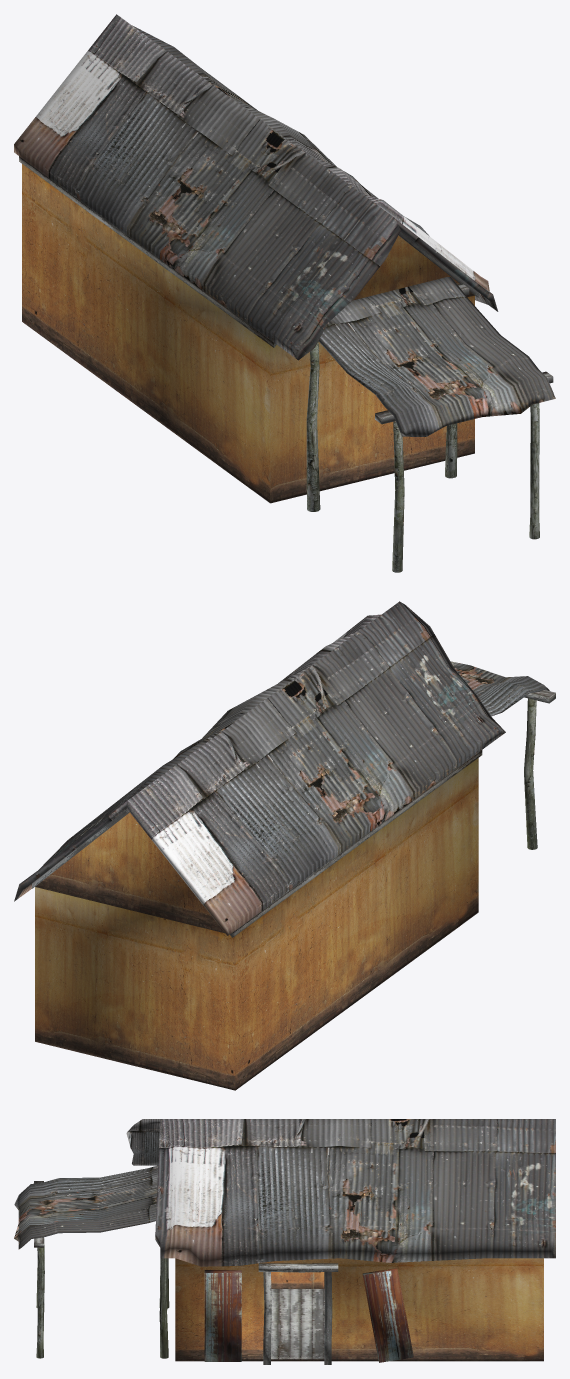
The model's file is shanty5.fbx.
3 views of the same model, one above another, from view 1: azimuth 30°, elevation 25°; view 2: azimuth 150°, elevation 25°; view 3: azimuth 270°, elevation 25° (orthographic). The views are drawn at different scales.
Visible parts, largest first — view 1: U3DMesh; view 2: U3DMesh; view 3: U3DMesh.
Part boxes in pixels (box(x1,y1,x2,y2)): U3DMesh: box(14, 14, 555, 572); U3DMesh: box(14, 601, 555, 1090); U3DMesh: box(14, 1119, 555, 1364).
Bounding box in the file's own units: 136 × 167 × 388.
